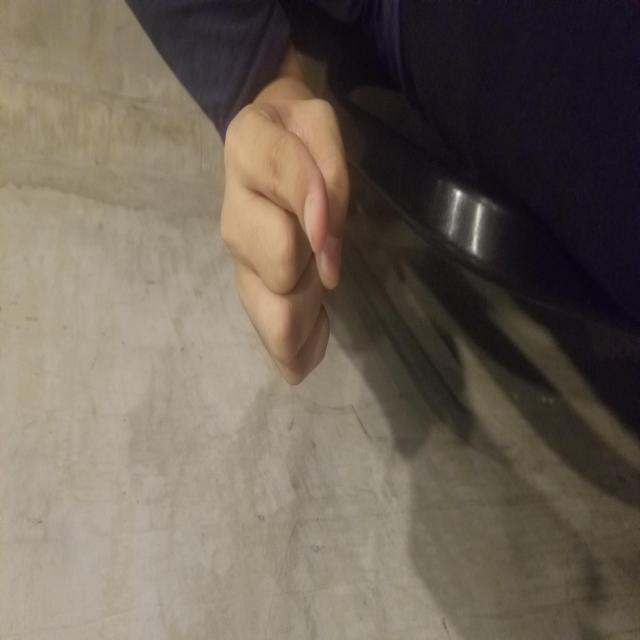Z: (254, 218, 546, 352)
